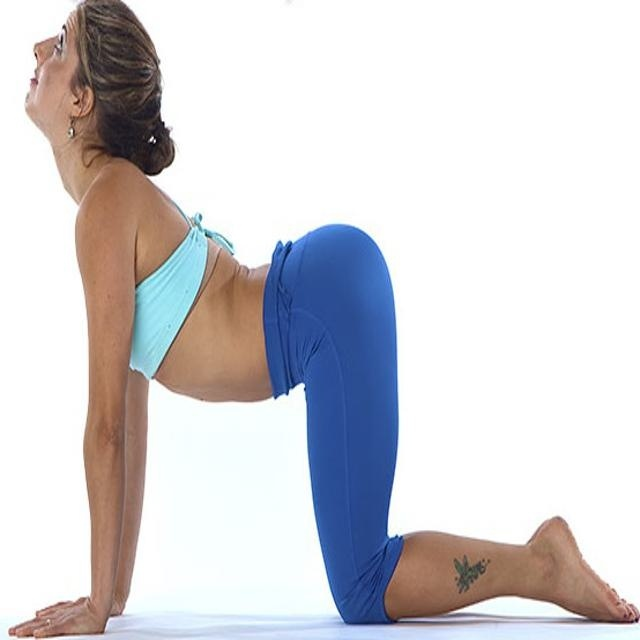Cow_Pose: (10, 2, 631, 635)
